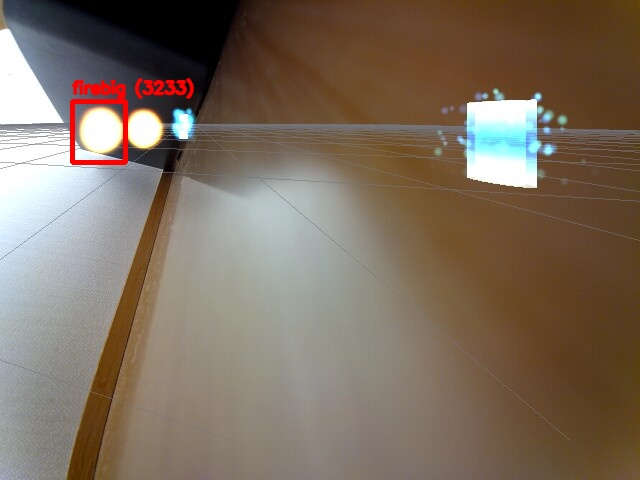firebig: (72, 101, 125, 162)
